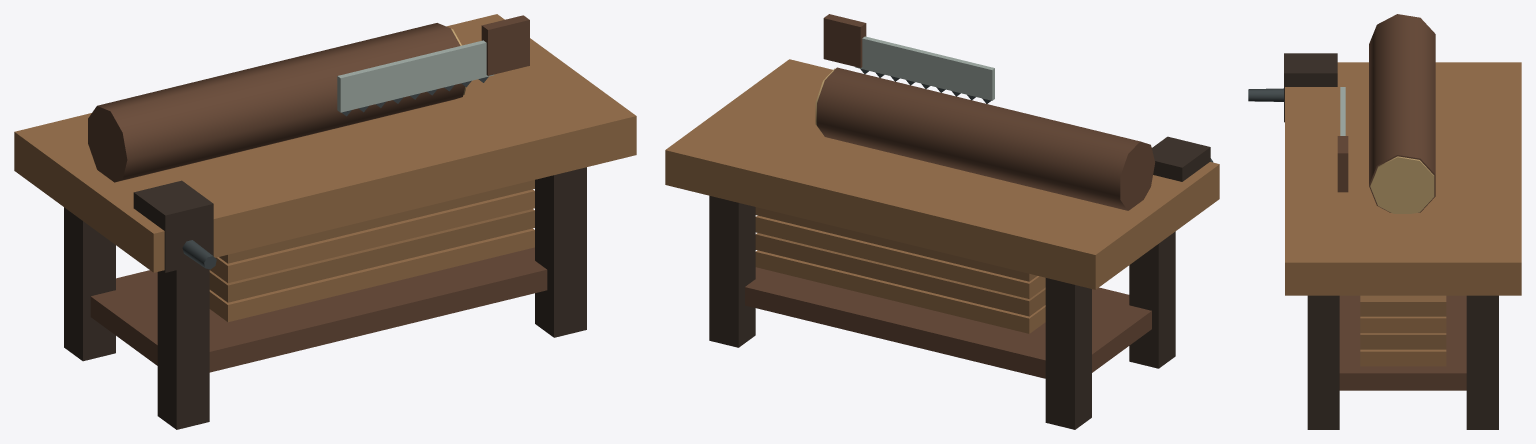
File: Stations_Carpenter.glb
3 views of the same model, side by side, from view 1: azimuth 30°, elevation 25°; view 2: azimuth 150°, elevation 25°; view 3: azimuth 270°, elevation 25° (orthographic). The views are drawn at different scales.
Visible parts, largest first — view 1: _MeshInstance3D_4205, _MeshInstance3D_4211, _MeshInstance3D_4206, _MeshInstance3D_4202, _MeshInstance3D_4204, _MeshInstance3D_4207, _MeshInstance3D_4208, _MeshInstance3D_4209, _MeshInstance3D_4201, _MeshInstance3D_4213, _MeshInstance3D_4224, _MeshInstance3D_4210 (+1 smaller); view 2: _MeshInstance3D_4205, _MeshInstance3D_4211, _MeshInstance3D_4206, _MeshInstance3D_4201, _MeshInstance3D_4203, _MeshInstance3D_4208, _MeshInstance3D_4207, _MeshInstance3D_4209, _MeshInstance3D_4202, _MeshInstance3D_4213, _MeshInstance3D_4210, _MeshInstance3D_4224 (+1 smaller); view 3: _MeshInstance3D_4205, _MeshInstance3D_4211, _MeshInstance3D_4206, _MeshInstance3D_4203, _MeshInstance3D_4204, _MeshInstance3D_4212, _MeshInstance3D_4210, _MeshInstance3D_4224, _MeshInstance3D_4207, _MeshInstance3D_4208, _MeshInstance3D_4209, _MeshInstance3D_4214 (+2 smaller).
Boxes of the visible parts, x1,y1,x2,y2 form: _MeshInstance3D_4205: (14, 14, 636, 272); _MeshInstance3D_4211: (88, 23, 465, 182); _MeshInstance3D_4206: (90, 247, 547, 372); _MeshInstance3D_4202: (157, 264, 209, 429); _MeshInstance3D_4204: (535, 167, 586, 337); _MeshInstance3D_4207: (209, 228, 534, 322); _MeshInstance3D_4208: (209, 209, 534, 302); _MeshInstance3D_4209: (210, 189, 534, 282); _MeshInstance3D_4201: (64, 207, 115, 361); _MeshInstance3D_4213: (337, 40, 493, 112); _MeshInstance3D_4224: (133, 180, 213, 272); _MeshInstance3D_4210: (219, 180, 534, 263); _MeshInstance3D_4205: (665, 59, 1219, 289); _MeshInstance3D_4211: (817, 67, 1155, 210); _MeshInstance3D_4206: (745, 267, 1151, 378); _MeshInstance3D_4201: (1045, 278, 1091, 429); _MeshInstance3D_4203: (709, 195, 755, 347); _MeshInstance3D_4208: (755, 233, 1045, 316); _MeshInstance3D_4207: (755, 250, 1045, 333); _MeshInstance3D_4209: (755, 215, 1045, 298); _MeshInstance3D_4202: (1129, 231, 1175, 368); _MeshInstance3D_4213: (855, 36, 994, 100); _MeshInstance3D_4210: (755, 207, 1037, 281); _MeshInstance3D_4224: (1152, 136, 1210, 181); _MeshInstance3D_4205: (1285, 62, 1521, 295); _MeshInstance3D_4211: (1369, 14, 1435, 212); _MeshInstance3D_4206: (1339, 295, 1466, 390); _MeshInstance3D_4203: (1466, 295, 1498, 429); _MeshInstance3D_4204: (1307, 295, 1339, 429); _MeshInstance3D_4212: (1370, 156, 1434, 213); _MeshInstance3D_4210: (1360, 295, 1446, 316); _MeshInstance3D_4224: (1284, 53, 1337, 122); _MeshInstance3D_4207: (1360, 349, 1446, 366); _MeshInstance3D_4208: (1360, 333, 1446, 349); _MeshInstance3D_4209: (1360, 316, 1446, 332); _MeshInstance3D_4214: (1337, 136, 1348, 192).
Size of the model in its own units: 2.2 by 1.34 by 1.27.
